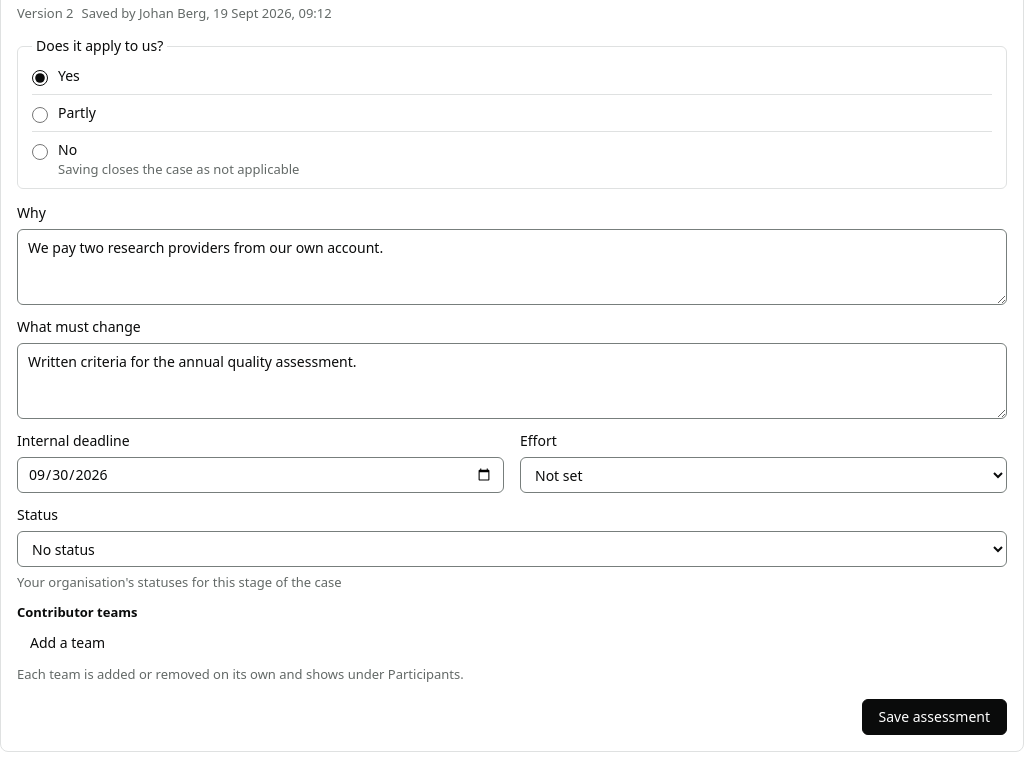
Test case: the assessment form › an unknown key is refused in the server’s own words
(page scrolled)
Click the button "Save assessment" at [934, 717], box [862, 699, 1007, 735]
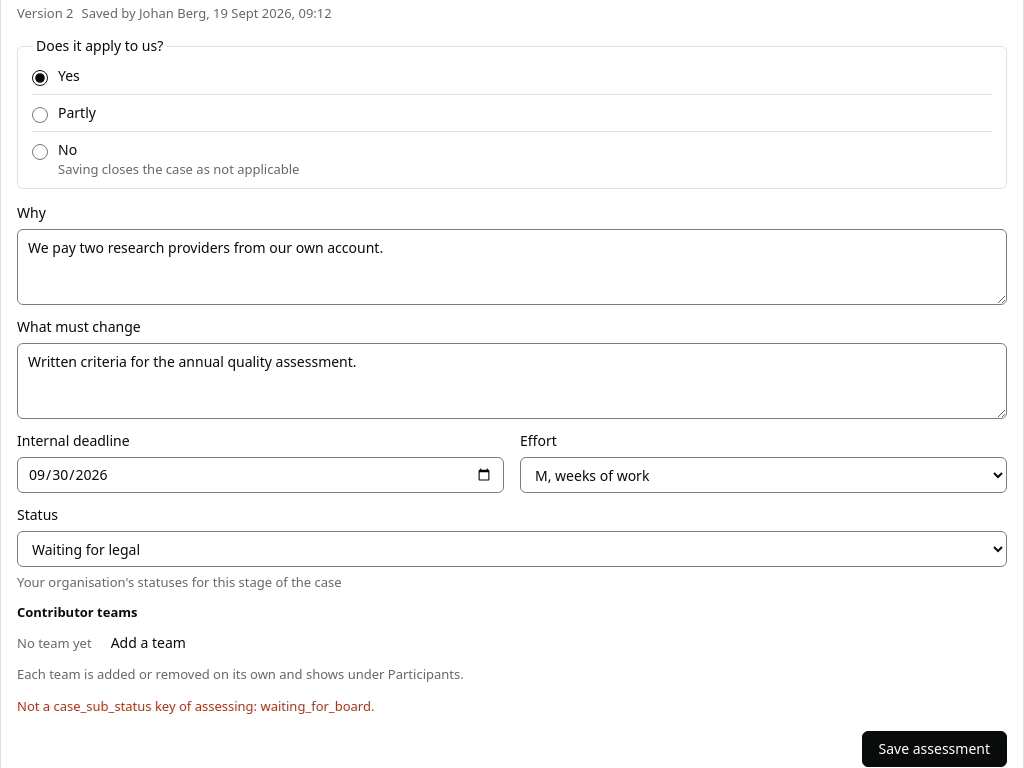
Result: the message reads "Not a case_sub_status key of assessing: waiting_for_board." at [17, 697, 374, 715]
